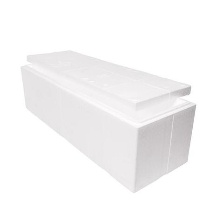foam_box: (17, 45, 203, 195)
